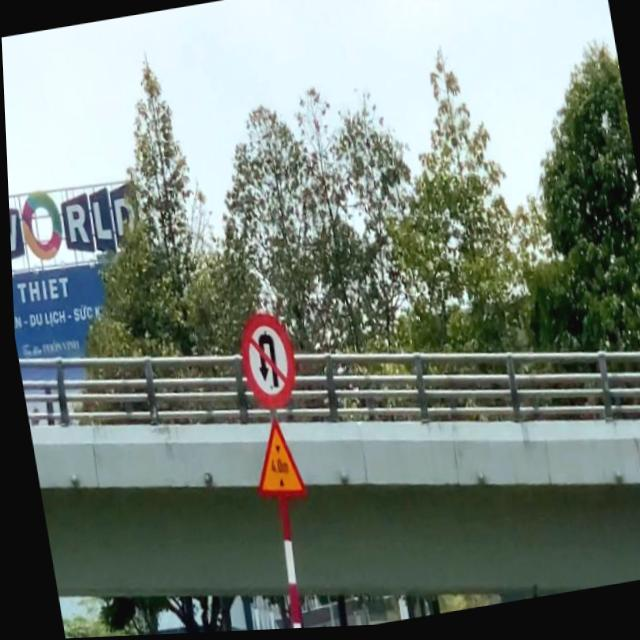Cam quay dau xe: (231, 311, 298, 416)
Chieu cao an toan: (239, 412, 306, 510)
